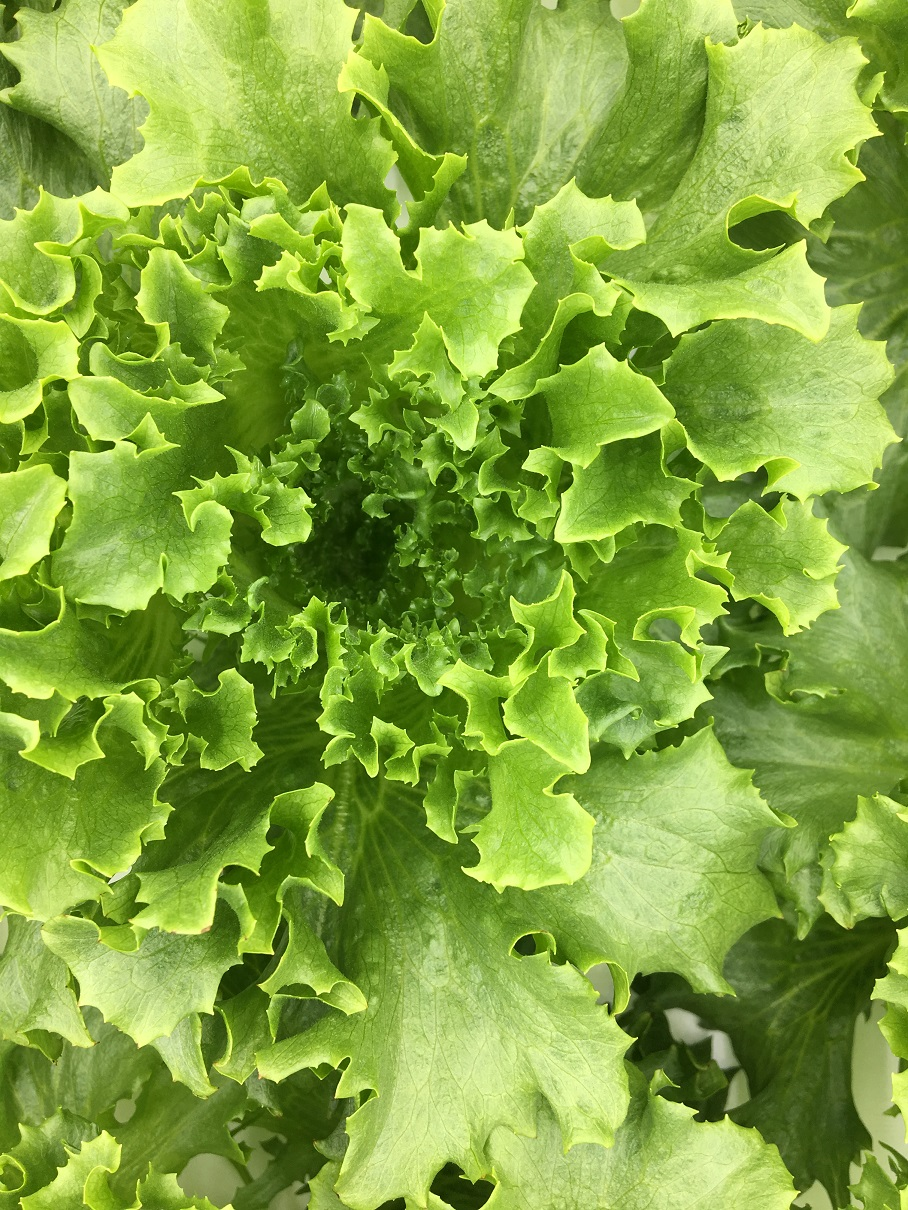tipburn: (157, 918, 183, 945), (89, 930, 113, 956), (242, 1065, 268, 1087), (196, 919, 219, 942)
